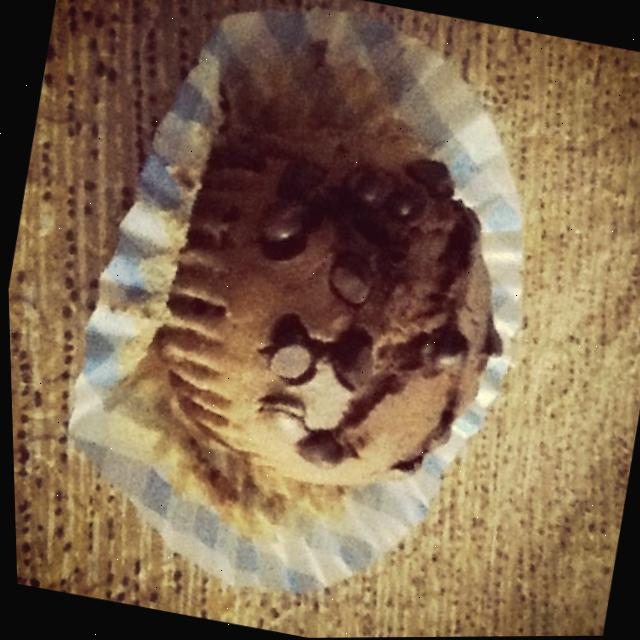炸货点心: (81, 26, 589, 563)
面包点心: (81, 26, 589, 563)
